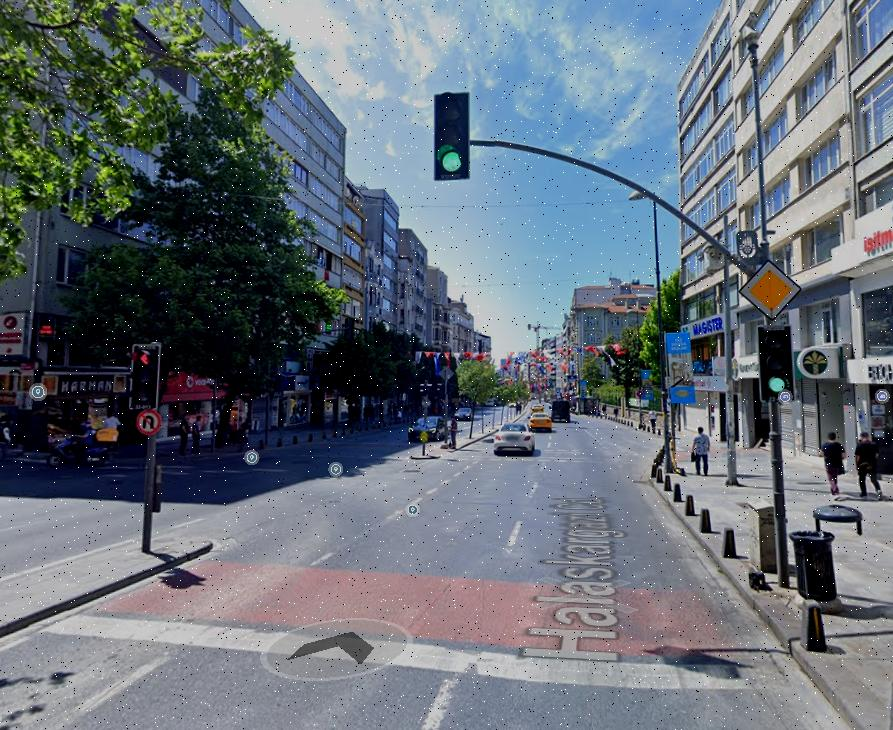greenlight: (432, 92, 469, 179), (758, 326, 797, 402)
redlight: (131, 341, 157, 414)
